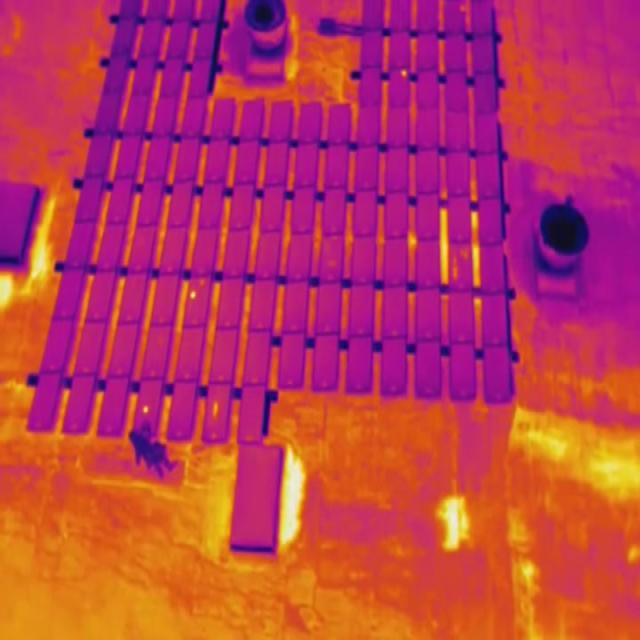Orange-Spots: (212, 401, 219, 418), (453, 260, 458, 280), (463, 250, 469, 259), (142, 406, 148, 414), (190, 290, 196, 298), (401, 70, 407, 78)
